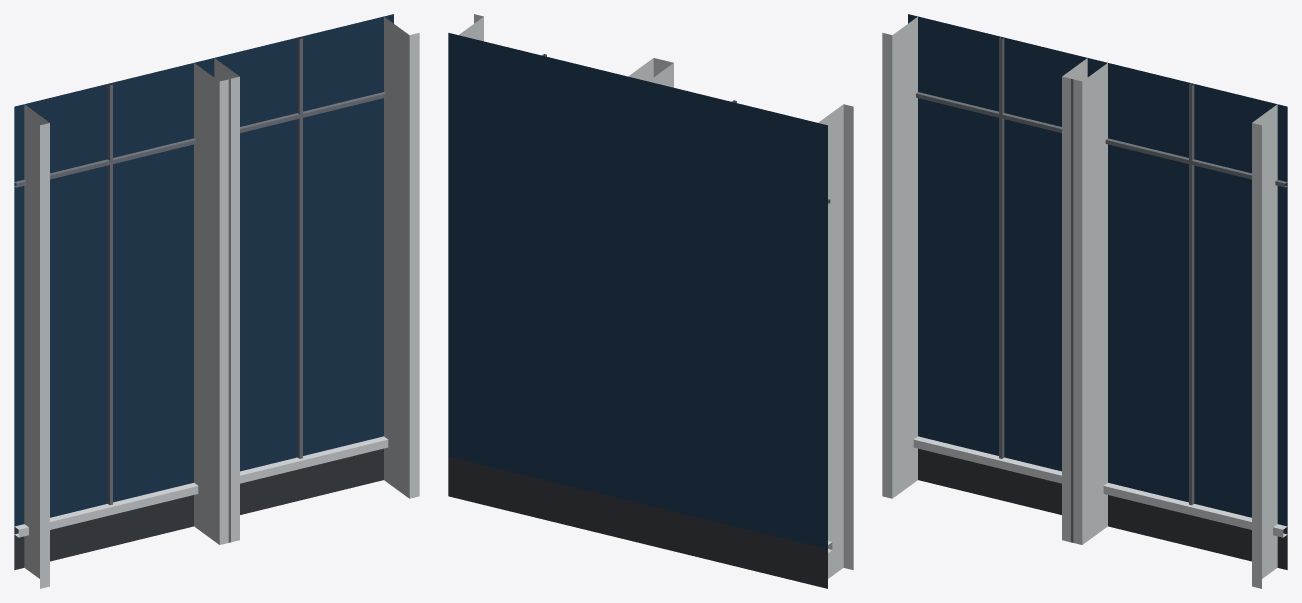
File: mid-w1_close.fbx
3 views of the same model, side by side, from view 1: azimuth 30°, elevation 25°; view 2: azimuth 150°, elevation 25°; view 3: azimuth 330°, elevation 25° (orthographic).
Parts seen in each view (by area): view 1: a2012/200/mid-w1_close; view 2: a2012/200/mid-w1_close; view 3: a2012/200/mid-w1_close.
Boxes of the visible parts, left/top/right/bottom form: a2012/200/mid-w1_close: left=14, top=14, right=419, bottom=588; a2012/200/mid-w1_close: left=448, top=14, right=853, bottom=588; a2012/200/mid-w1_close: left=882, top=14, right=1287, bottom=588.
Size of the model in its own units: 3 by 3.5 by 0.351.
